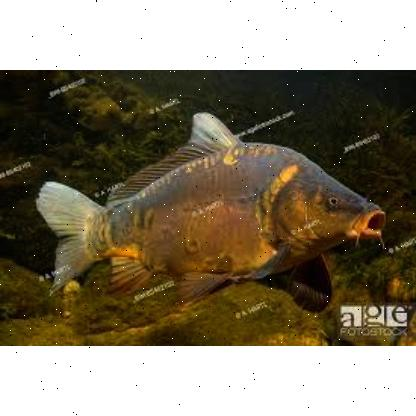ikan-mas: (40, 114, 388, 298)
